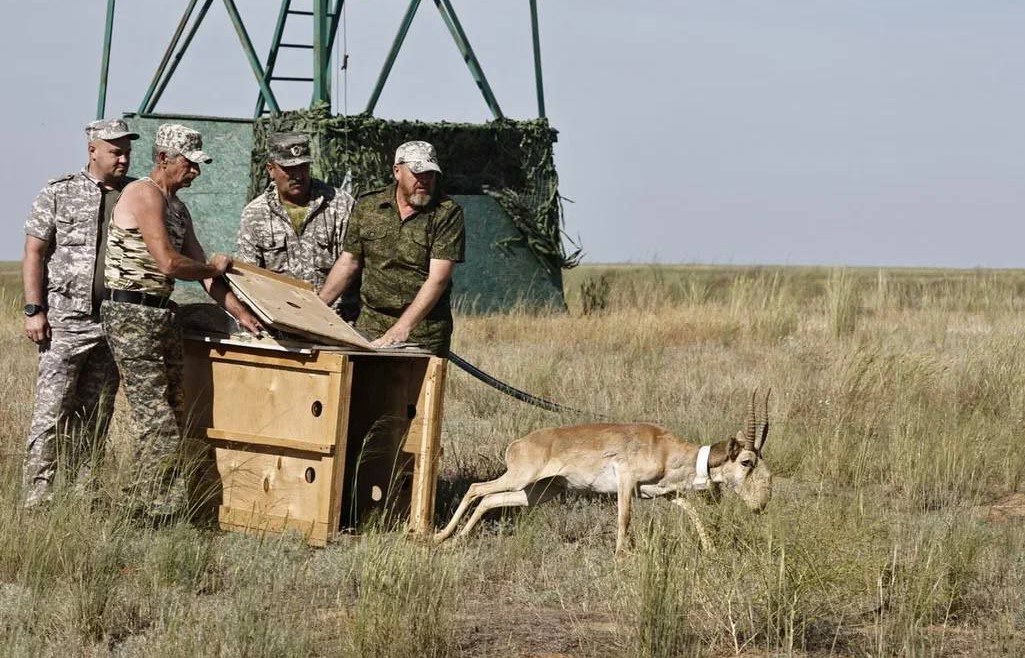saiga: (424, 388, 783, 571)
